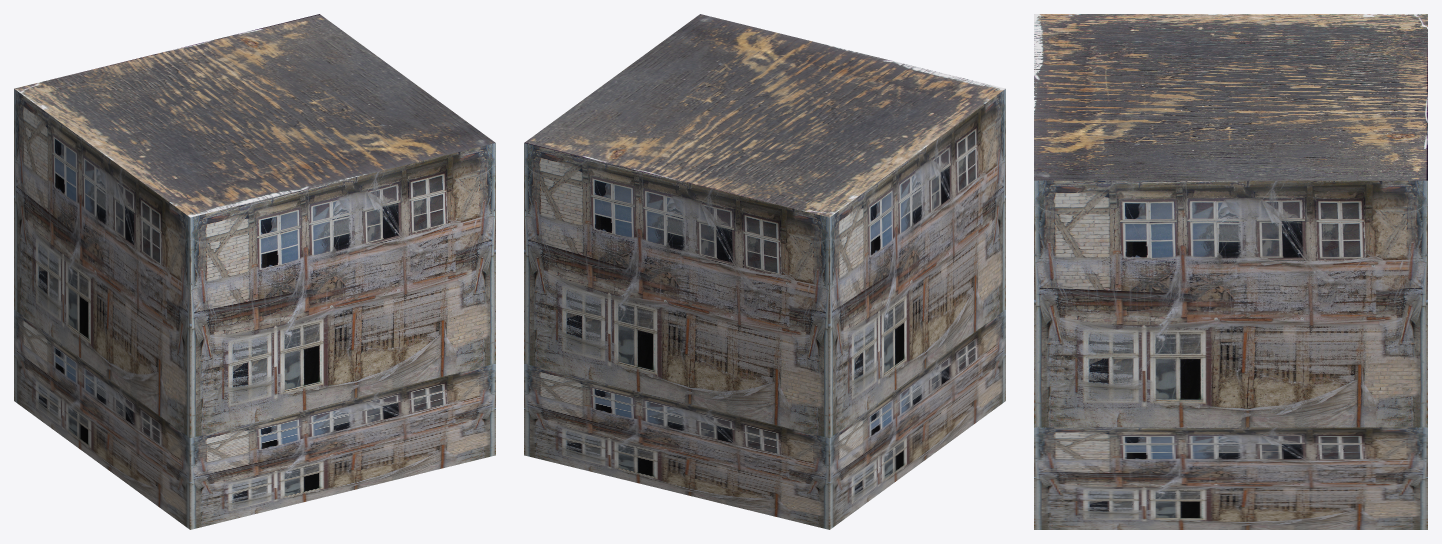
The model's file is BagBuilding11_0.fbx.
3 renders of one model, left to right at view 1: azimuth 30°, elevation 25°; view 2: azimuth 150°, elevation 25°; view 3: azimuth 270°, elevation 25°, orthographic. The views are drawn at different scales.
Parts seen in each view (by area): view 1: Box0, roof0, BoxA0; view 2: Box0, roof0, BoxA0; view 3: Box0, roof0, BoxA0.
Boxes of the visible parts, bbox=[...] form: Box0: bbox=[14, 89, 495, 437]; roof0: bbox=[14, 14, 495, 217]; BoxA0: bbox=[14, 309, 495, 529]; Box0: bbox=[524, 89, 1005, 438]; roof0: bbox=[524, 14, 1005, 217]; BoxA0: bbox=[524, 309, 1005, 529]; Box0: bbox=[1034, 180, 1427, 427]; roof0: bbox=[1034, 14, 1427, 180]; BoxA0: bbox=[1034, 427, 1427, 529].
Size of the model in its own units: 12.98 by 12.67 by 12.95.
